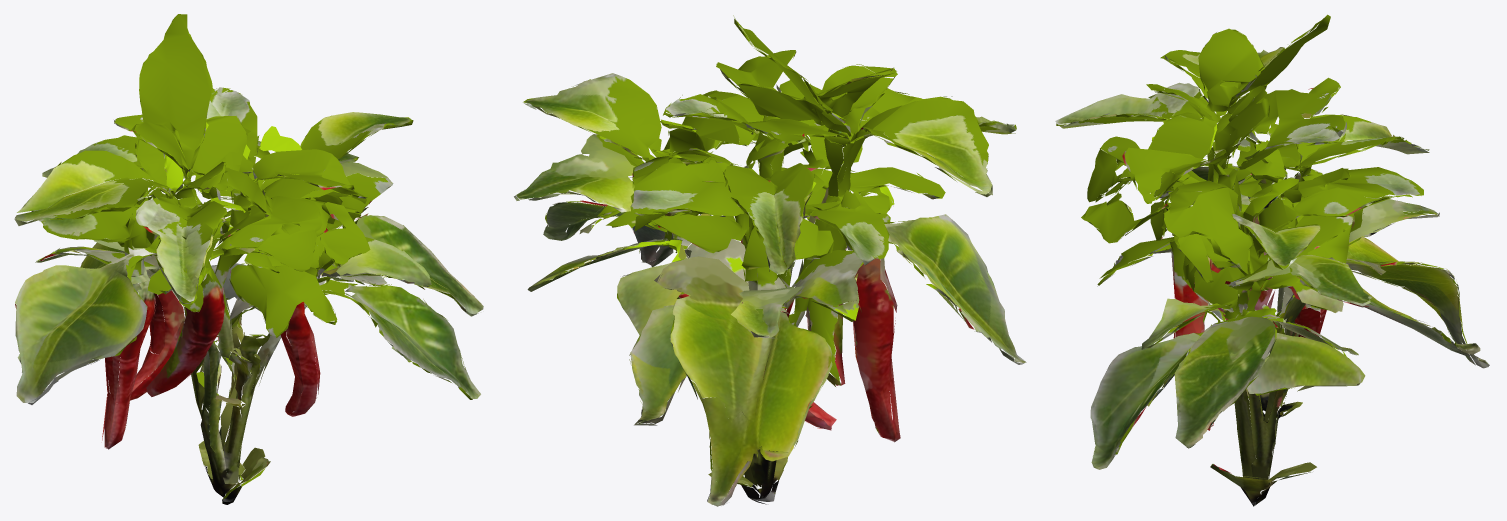
The picture shows the model from 3 angles, left to right: view 1: azimuth 30°, elevation 25°; view 2: azimuth 150°, elevation 25°; view 3: azimuth 270°, elevation 25°; orthographic projection. The views are drawn at different scales.
Visible parts, largest first — view 1: tmp8z9qyrb9.ply; view 2: tmp8z9qyrb9.ply; view 3: tmp8z9qyrb9.ply.
Part boxes in pixels (x1,y1,x2,y2): tmp8z9qyrb9.ply: [14, 14, 483, 504]; tmp8z9qyrb9.ply: [514, 15, 1026, 506]; tmp8z9qyrb9.ply: [1055, 14, 1489, 506].
Size of the model in its own units: 2 by 1.99 by 1.63.
Materials: 1 (1 with a texture image).
